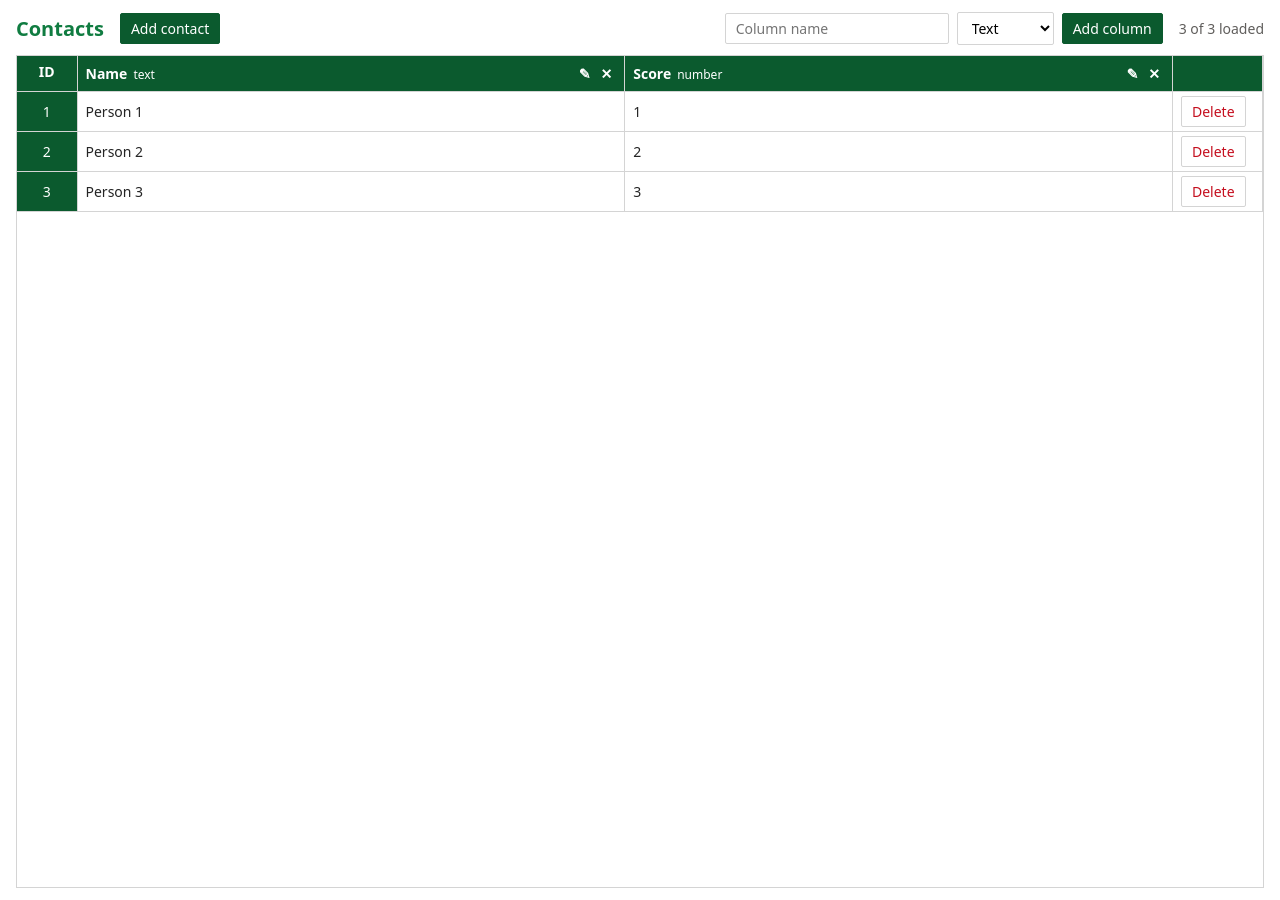
Test: App: contacts › Delete asks for confirmation, then removes the row and decrements the total
The image size is (1280, 900).
expect the text "Person 1" is shown: met, box [86, 102, 143, 121]
Step 1. Click the button "Delete" in the row of "Person 2" → (1213, 152), box [1181, 136, 1246, 167]
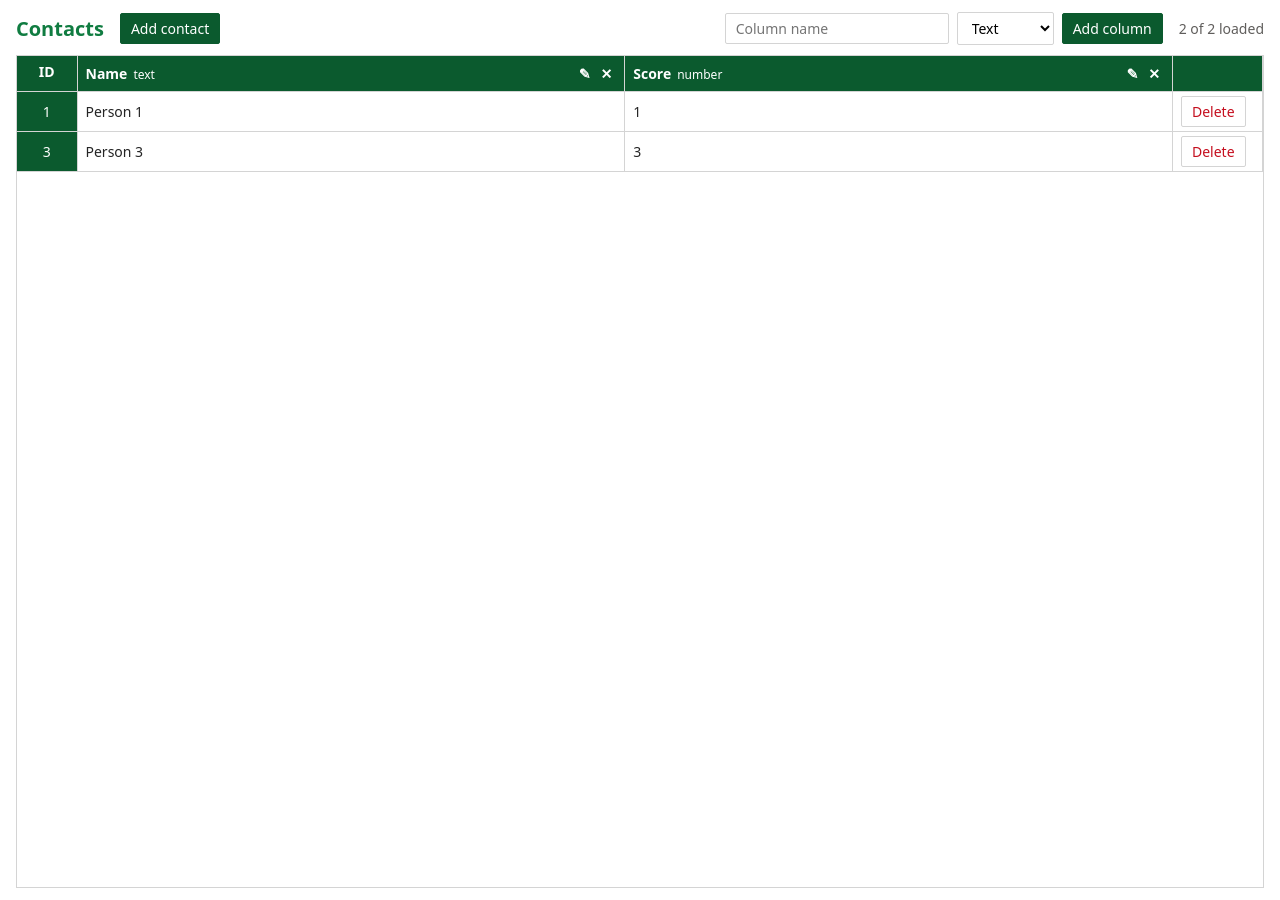
expect the text "Person 2" is gone: met
expect the text "2 of 2 loaded" is shown: met, box [1179, 19, 1264, 38]
